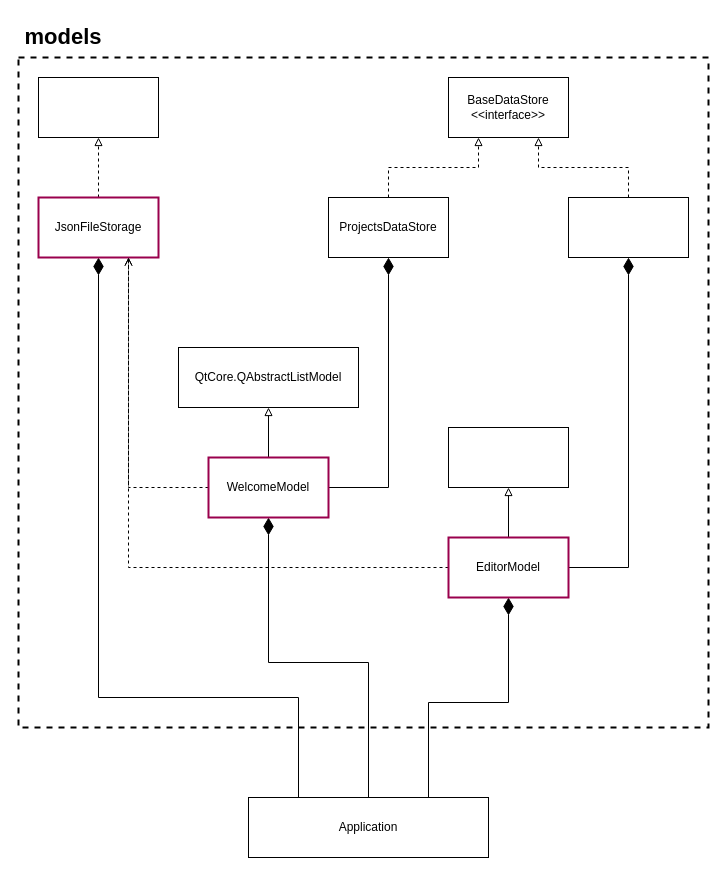
Image size: 726x875. Some labels were removed from this diagram. The shapes that lost their labels are listed below. From the top down, each one's centre as x and y in pixels, then its label:
the point at 98,107: AbstractStorage <<interface>>
the point at 628,227: ConfigDataStore
the point at 508,457: QtCore.QObject
